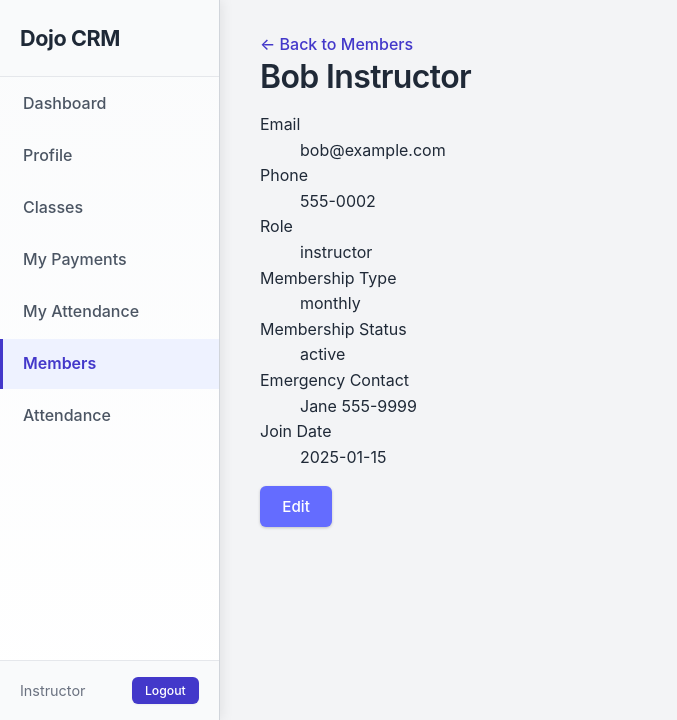
Test: MemberDetail › hides admin-only fields in edit mode for non-admin
The width and height of the screenshot is (677, 720).
Expected: the heading "Bob Instructor" is shown, [260,57,471,96]
Click the button "Edit". click: (296, 507)
box: [260,486,332,527]
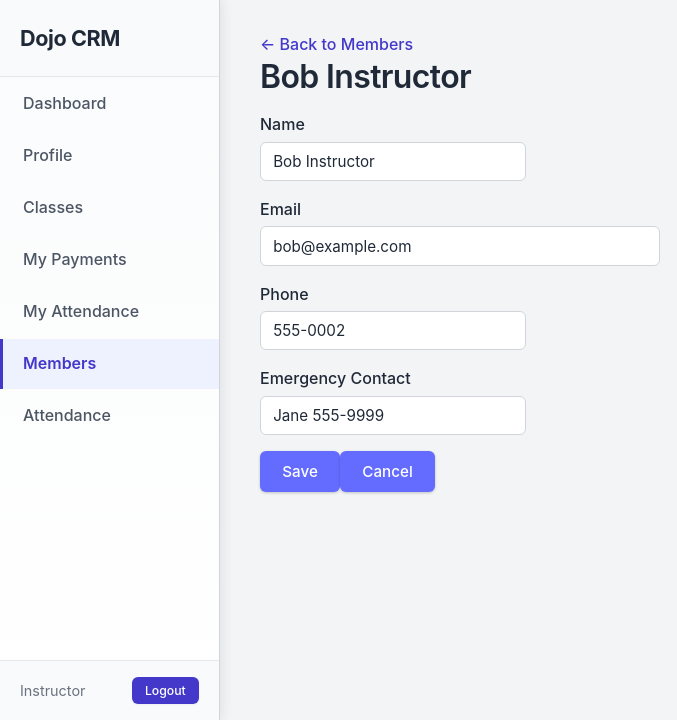
Result: the field labelled "Name" is shown at [260,142,526,181]
Result: the text labelled "Role" is gone
Result: the text labelled "Membership Type" is gone
